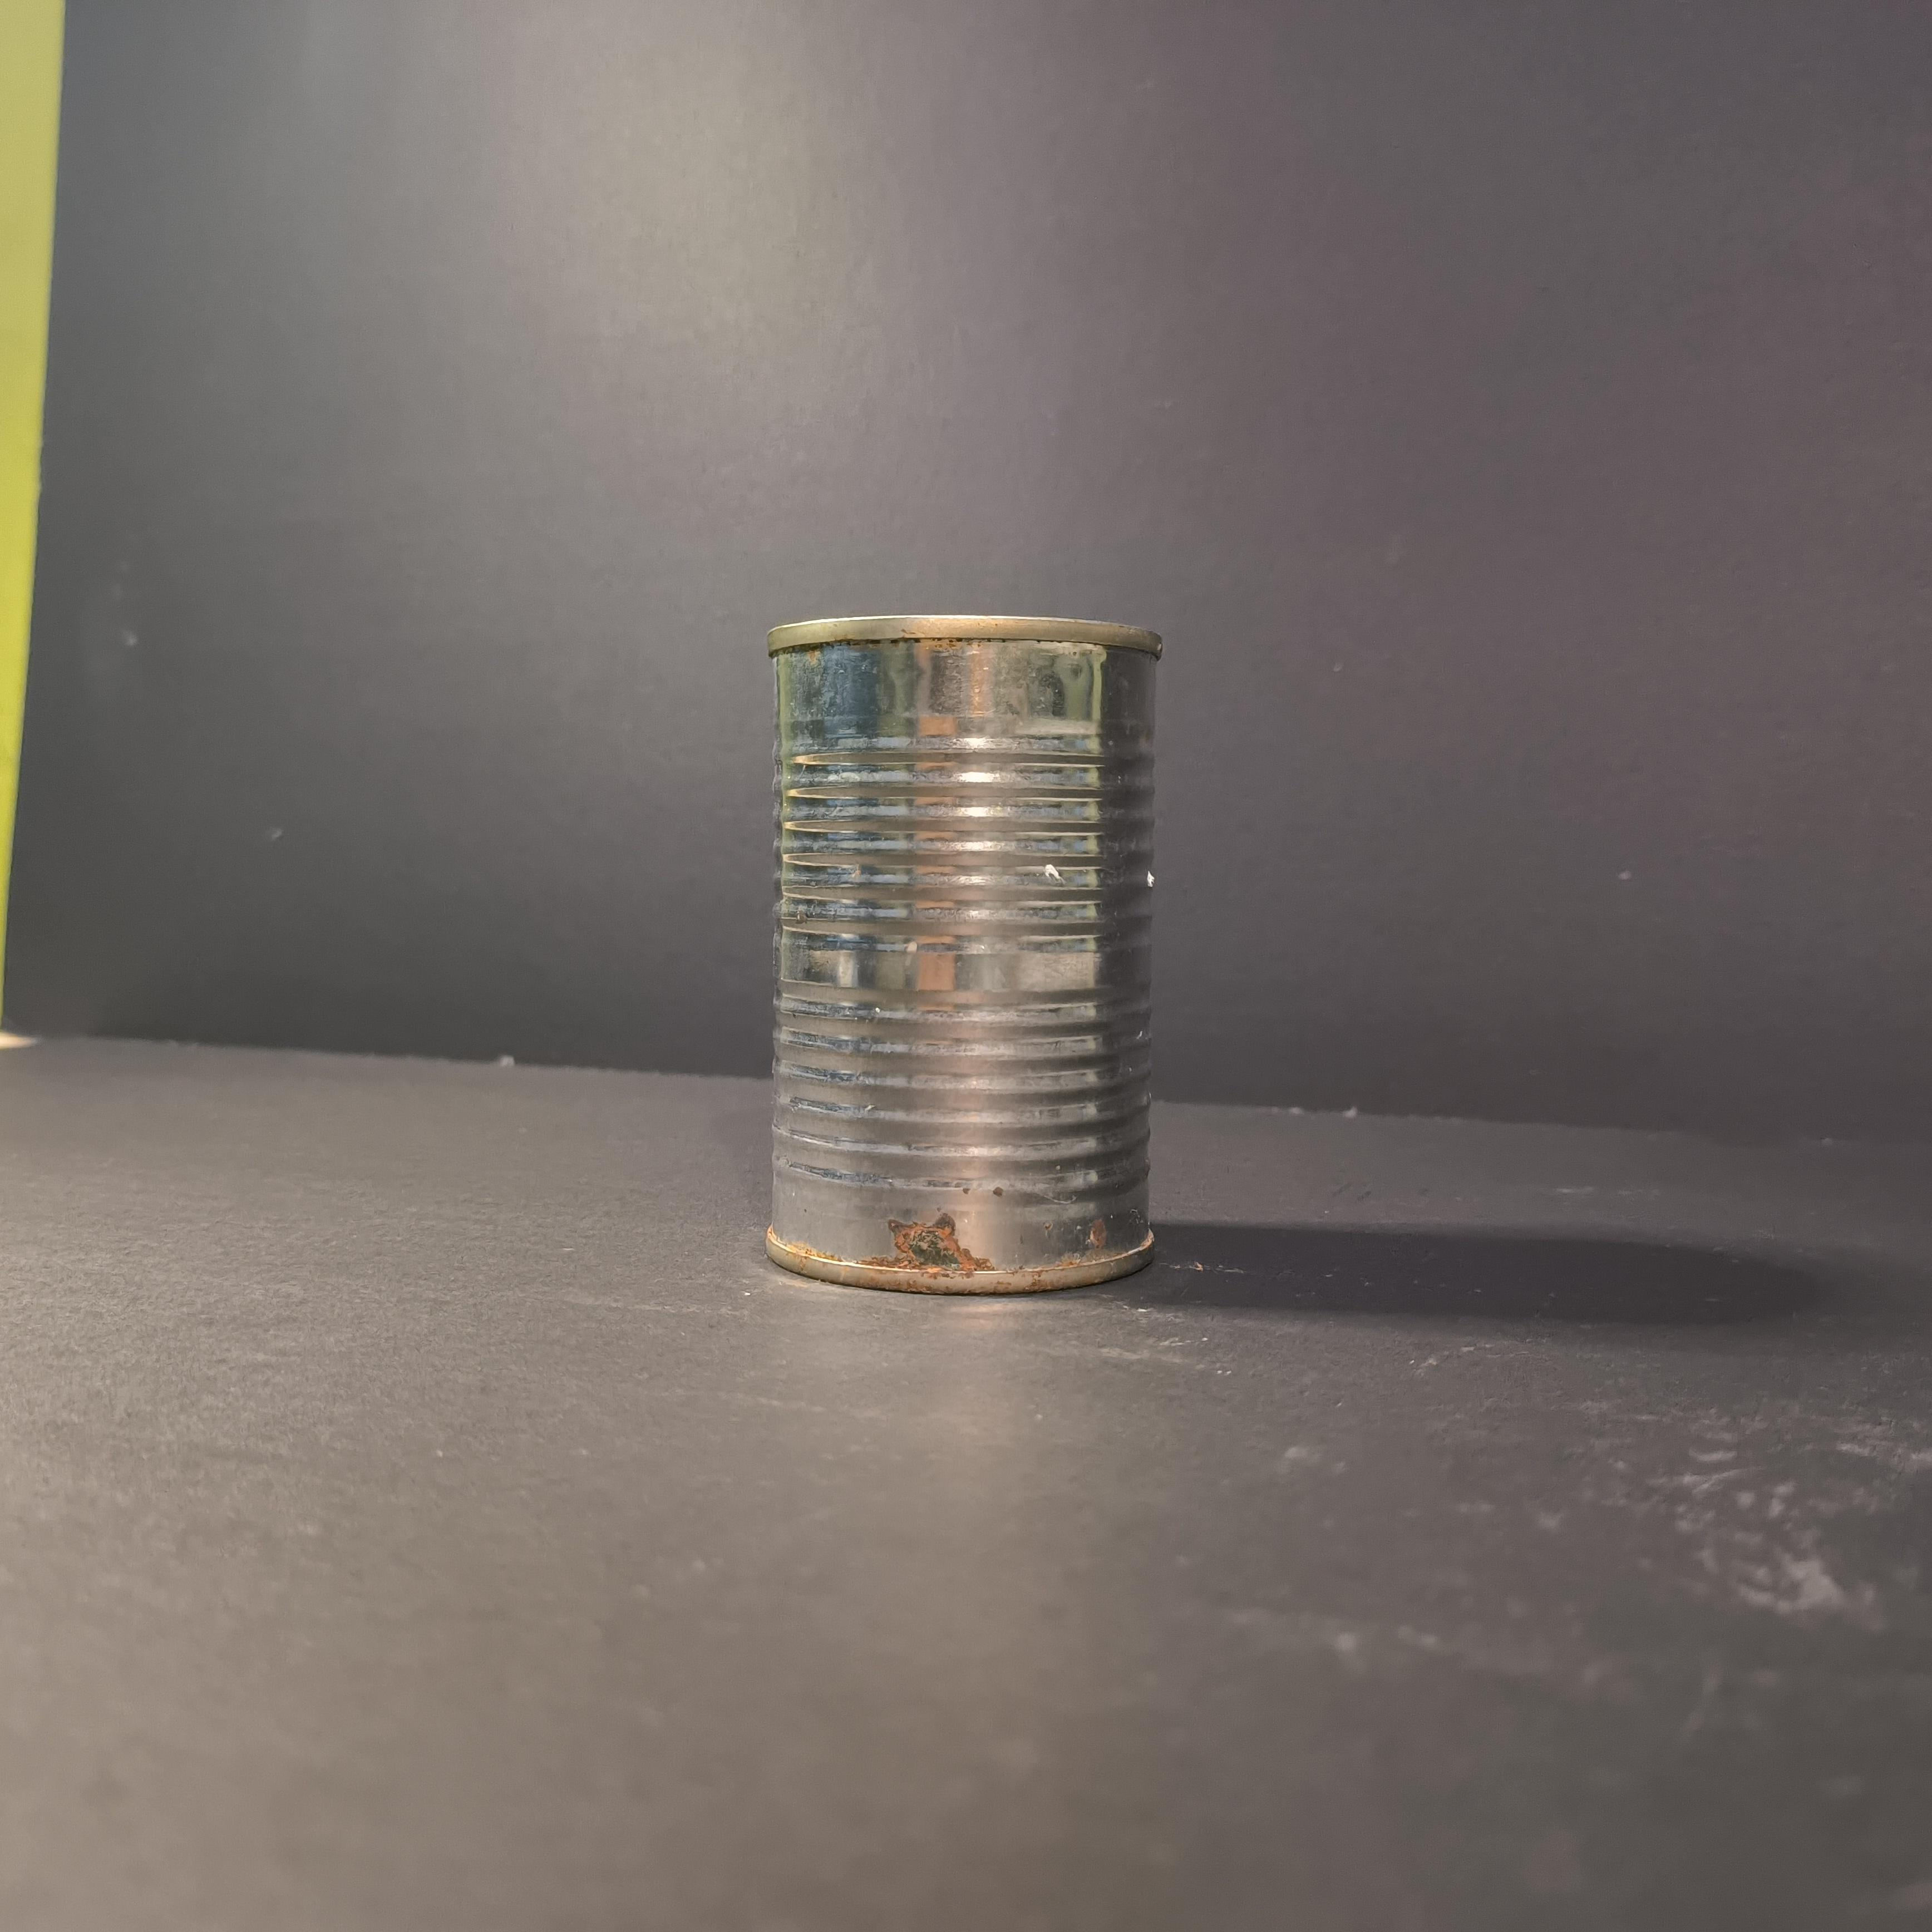Rusted: (768, 598, 1171, 1288)
